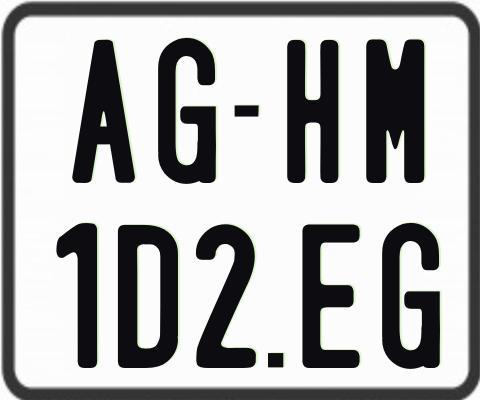1: (53, 220, 95, 367)
2: (194, 221, 258, 365)
A: (71, 40, 140, 187)
D: (116, 223, 182, 371)
E: (301, 223, 365, 371)
G: (157, 37, 221, 184), (381, 220, 441, 368)
H: (286, 38, 340, 184)
M: (365, 36, 425, 186)
